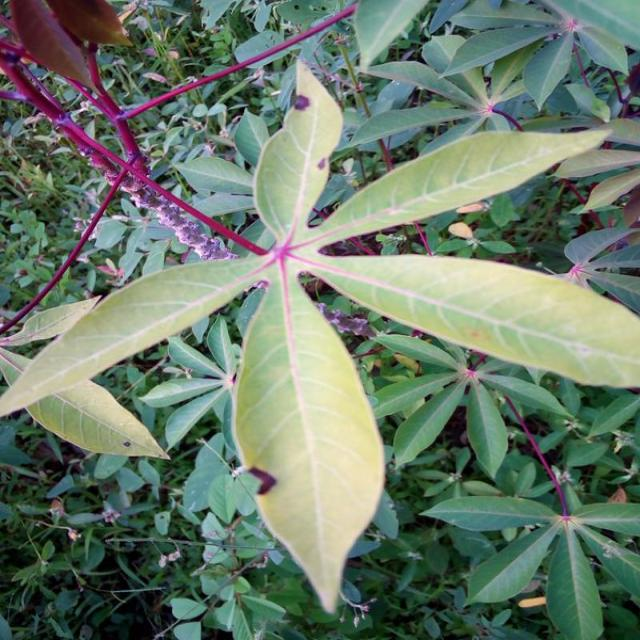cassava leaf: (1, 56, 638, 614), (230, 256, 386, 613)
